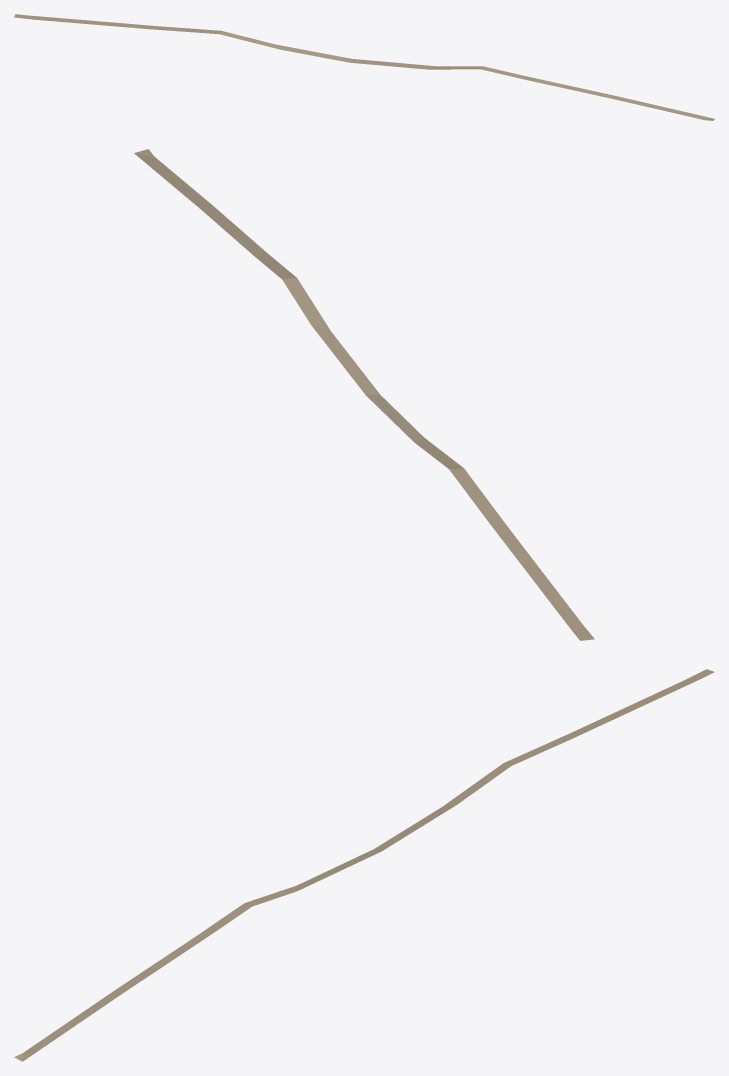
The model's file is farm_-35_-32_track.glb.
3 views of the same model, one above another, from view 1: azimuth 30°, elevation 25°; view 2: azimuth 150°, elevation 25°; view 3: azimuth 270°, elevation 25° (orthographic). The views are drawn at different scales.
Visible parts, largest first — view 1: geometry_0; view 2: geometry_0; view 3: geometry_0.
Boxes of the visible parts, box(x1,y1,x2,y2) form: geometry_0: box(14, 14, 714, 120); geometry_0: box(134, 149, 594, 640); geometry_0: box(14, 669, 714, 1061).
Size of the model in its own units: 228 by 20.79 by 204.
